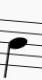B: (3, 12, 28, 79)
